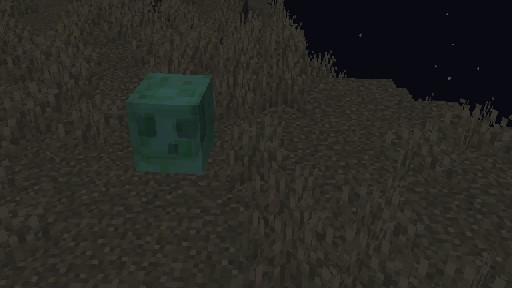slime: (124, 72, 215, 174)
